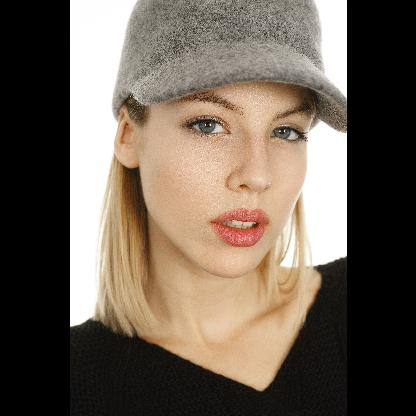Female: (114, 81, 316, 278)
